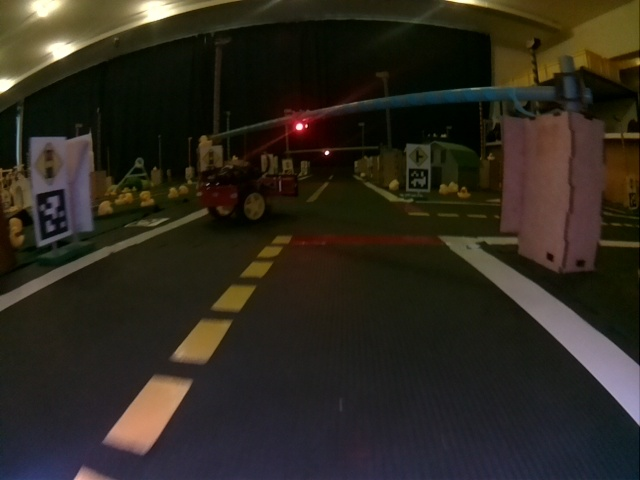Duckie: (198, 135, 211, 146), (389, 179, 399, 190), (440, 184, 449, 194), (142, 196, 151, 205), (101, 204, 111, 212), (169, 187, 177, 197), (179, 184, 187, 194), (117, 195, 125, 204), (459, 190, 468, 196)
Duckiebot: (201, 168, 298, 223)
Intersection sign: (407, 145, 428, 166)
QR code: (35, 189, 69, 240), (408, 169, 430, 191)
Signal sign: (33, 141, 65, 185)
Traffic light: (295, 116, 305, 132), (324, 148, 329, 156)
